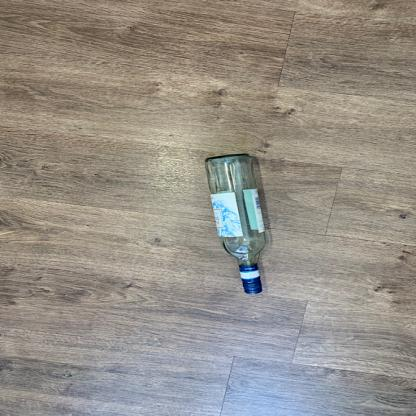trash: (202, 154, 270, 297)
